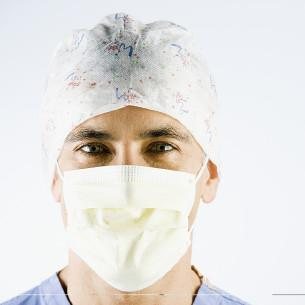OK: (53, 119, 227, 293)
